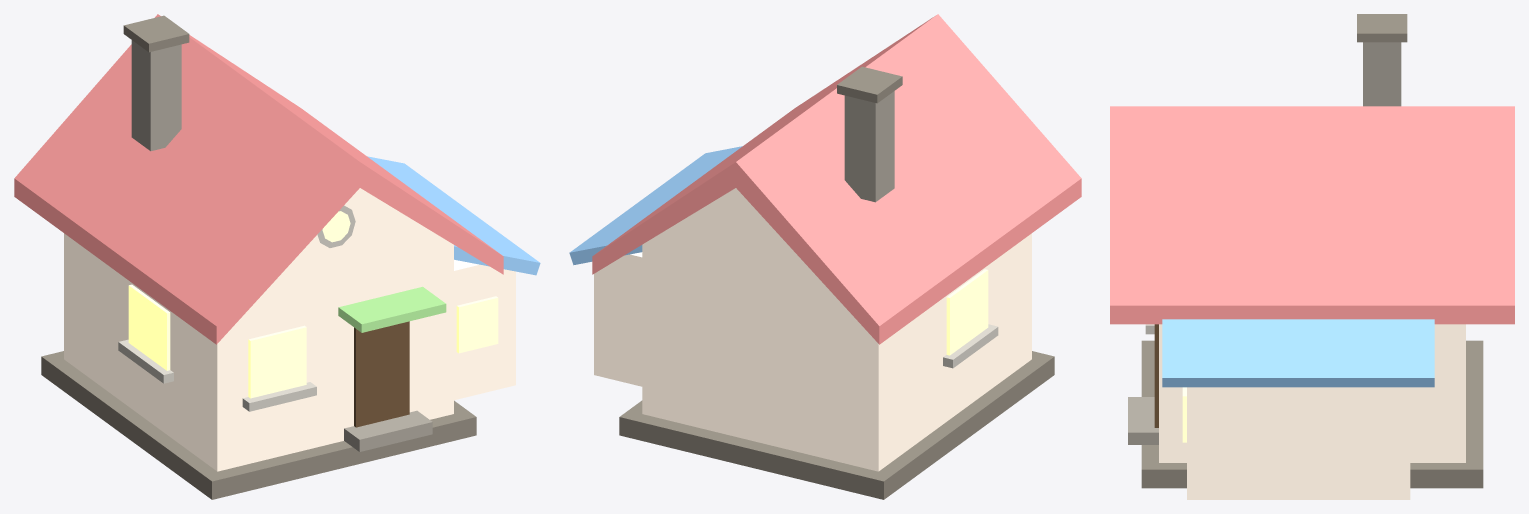
Rendered from harbour-house.glb.
The picture shows the model from 3 angles, left to right: view 1: azimuth 30°, elevation 25°; view 2: azimuth 150°, elevation 25°; view 3: azimuth 270°, elevation 25°; orthographic projection.
Parts seen in each view (by area): view 1: harbour-house; view 2: harbour-house; view 3: harbour-house.
Part boxes in pixels (bbox=[...]): harbour-house: bbox=[14, 14, 540, 499]; harbour-house: bbox=[569, 14, 1081, 499]; harbour-house: bbox=[1110, 14, 1514, 499].
Bounding box in the file's own units: 6 × 6 × 6.
